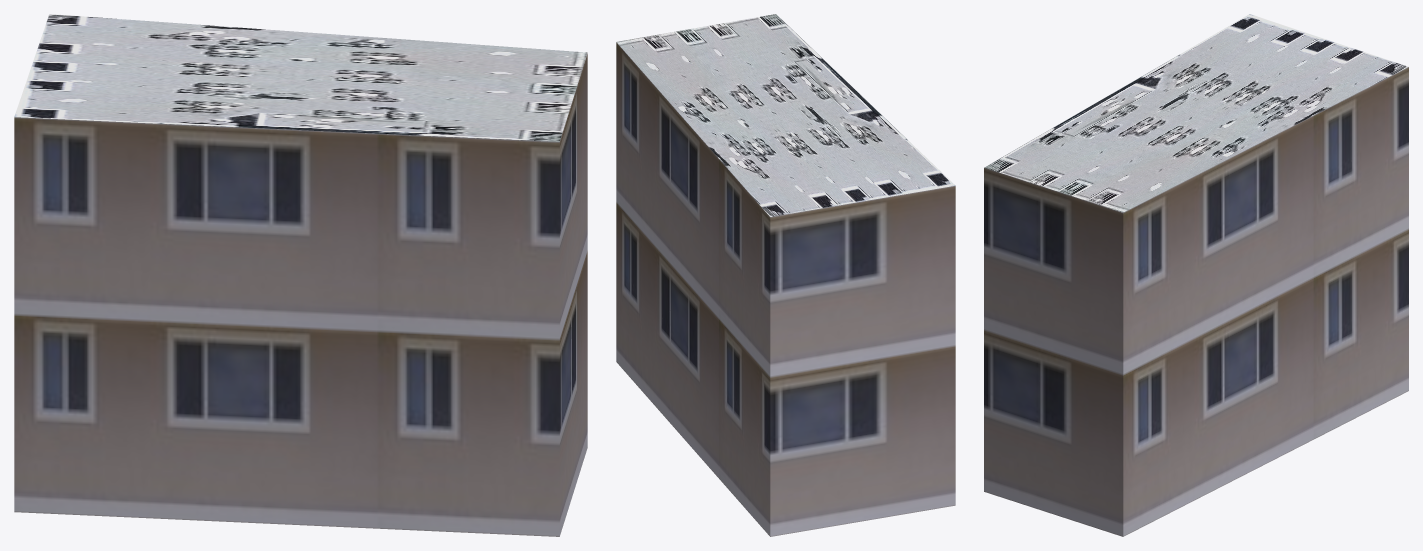
File: ResTex__321.fbx
3 renders of one model, left to right at view 1: azimuth 30°, elevation 25°; view 2: azimuth 150°, elevation 25°; view 3: azimuth 270°, elevation 25°, orthographic. The views are drawn at different scales.
Visible parts, largest first — view 1: CityEngineMaterial_21_m, CityEngineMaterial_8_m; view 2: CityEngineMaterial_21_m, CityEngineMaterial_8_m; view 3: CityEngineMaterial_21_m, CityEngineMaterial_8_m.
Part boxes in pixels (x1=…): CityEngineMaterial_21_m: x1=14, y1=53, x2=587, y2=536; CityEngineMaterial_8_m: x1=14, y1=14, x2=587, y2=141; CityEngineMaterial_21_m: x1=616, y1=42, x2=955, y2=536; CityEngineMaterial_8_m: x1=616, y1=14, x2=955, y2=216; CityEngineMaterial_21_m: x1=984, y1=67, x2=1408, y2=536; CityEngineMaterial_8_m: x1=984, y1=14, x2=1408, y2=212.
Size of the model in its own units: 7.89 by 6 by 7.12.
2 materials, 2 textured.
